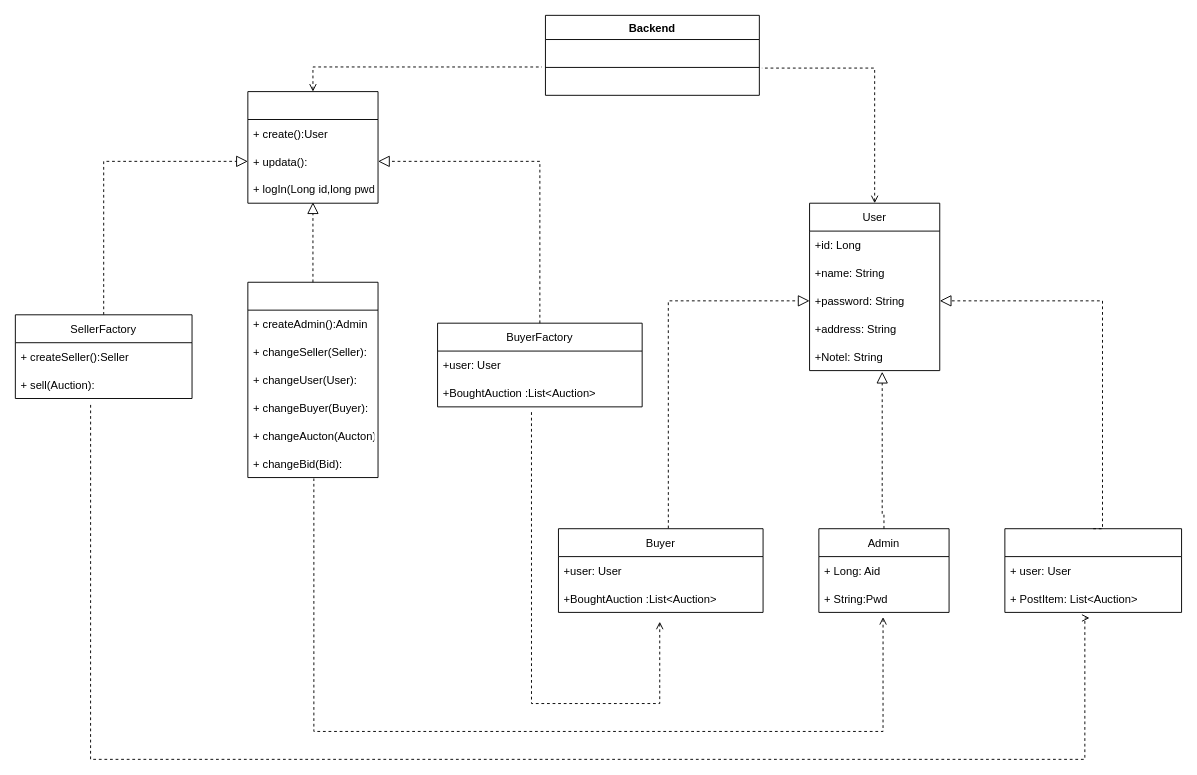
Some shapes in this 1197 by 775 pixel diagram are drawn without their labels. Each missing label, with the box of its shape:
AdminFactory: (247, 281, 378, 478)
Seller: (1004, 528, 1182, 612)
UserFactory: (247, 91, 378, 203)
